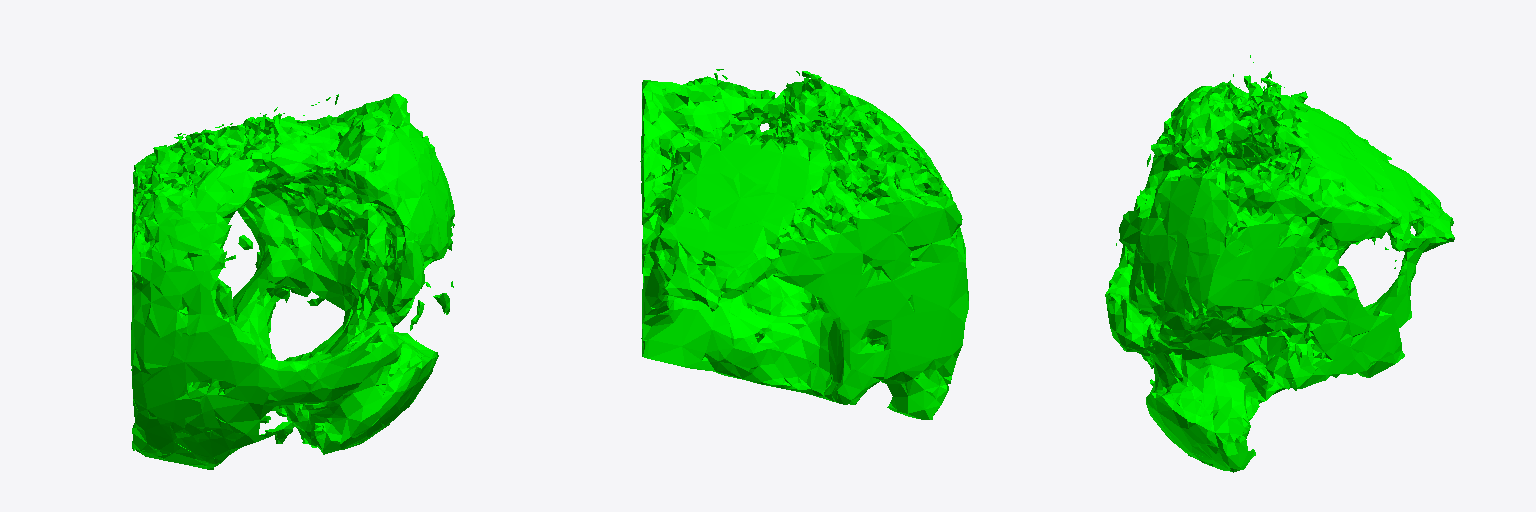
File: B939XXXX-1_base_5.obj
The picture shows the model from 3 angles: view 1: azimuth 30°, elevation 25°; view 2: azimuth 150°, elevation 25°; view 3: azimuth 270°, elevation 25°; orthographic projection.
Visible parts, largest first — view 1: 5_base; view 2: 5_base; view 3: 5_base.
Boxes of the visible parts, x1,y1,x2,y2 form: 5_base: [131, 94, 454, 469]; 5_base: [640, 69, 968, 419]; 5_base: [1105, 55, 1454, 472].
Size of the model in its own units: 217 by 215 by 203.